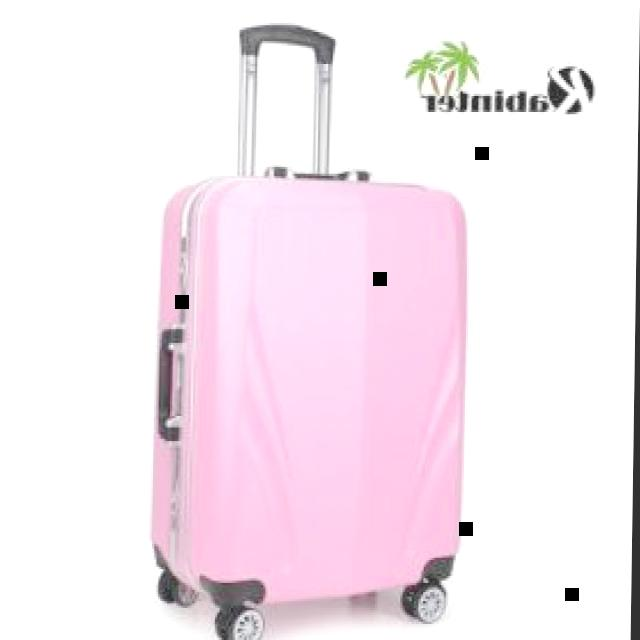luggage: (143, 158, 496, 608)
